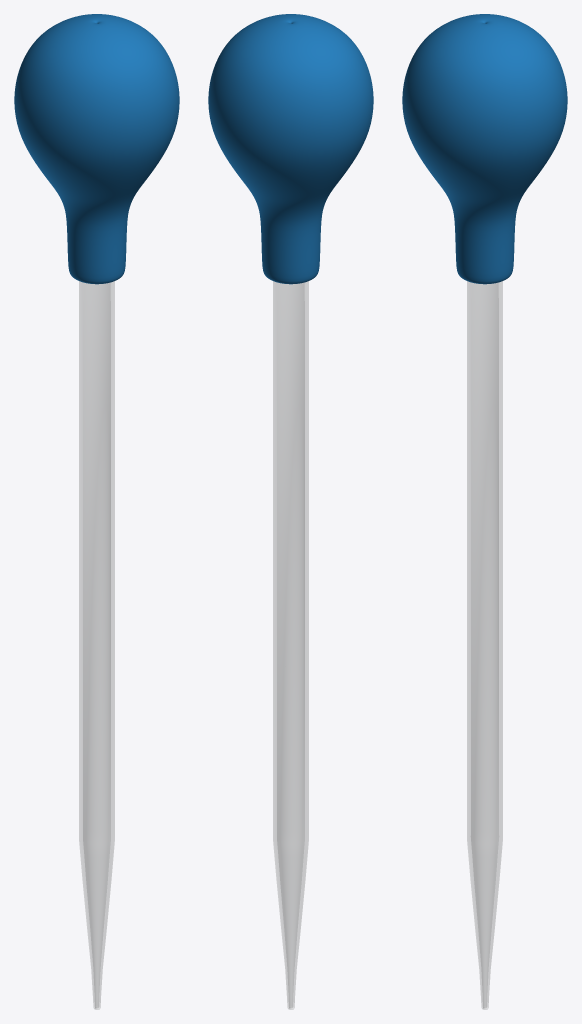
The model's file is straw.glb.
3 renders of one model, left to right at view 1: azimuth 30°, elevation 25°; view 2: azimuth 150°, elevation 25°; view 3: azimuth 270°, elevation 25°, orthographic.
Parts seen in each view (by area): view 1: Blue_bulb_hollow_elastomer, Glass_tube_hollow_open_tip; view 2: Blue_bulb_hollow_elastomer, Glass_tube_hollow_open_tip; view 3: Blue_bulb_hollow_elastomer, Glass_tube_hollow_open_tip.
Part boxes in pixels (x1,y1,x2,y2): Blue_bulb_hollow_elastomer: [14, 14, 179, 284]; Glass_tube_hollow_open_tip: [79, 281, 114, 1009]; Blue_bulb_hollow_elastomer: [208, 14, 373, 284]; Glass_tube_hollow_open_tip: [273, 281, 308, 1009]; Blue_bulb_hollow_elastomer: [402, 14, 567, 284]; Glass_tube_hollow_open_tip: [467, 281, 502, 1009].
Size of the model in its own units: 0.0454 by 0.2997 by 0.0454.
